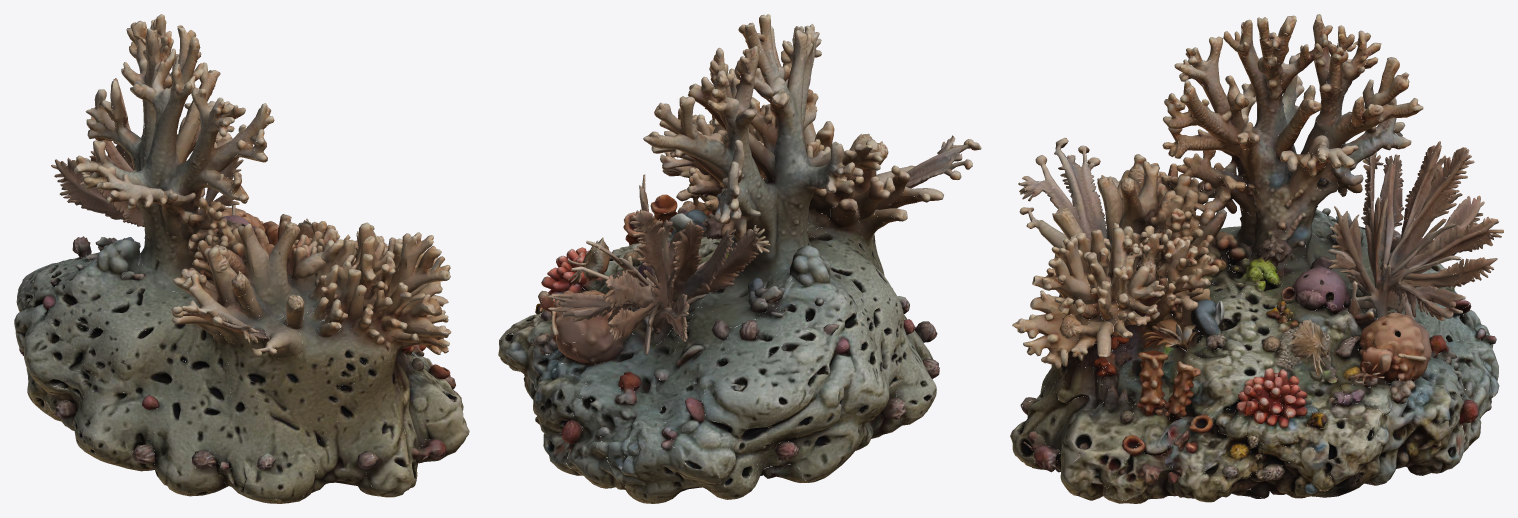
Rendered from CoralCluster.glb.
The picture shows the model from 3 angles, left to right: view 1: azimuth 30°, elevation 25°; view 2: azimuth 150°, elevation 25°; view 3: azimuth 270°, elevation 25°; orthographic projection. The views are drawn at different scales.
Visible parts, largest first — view 1: tripo_node_7975c06a-bf08-4f32-b494-3820de9c8e1f; view 2: tripo_node_7975c06a-bf08-4f32-b494-3820de9c8e1f; view 3: tripo_node_7975c06a-bf08-4f32-b494-3820de9c8e1f.
Part boxes in pixels (x1,y1,x2,y2): tripo_node_7975c06a-bf08-4f32-b494-3820de9c8e1f: [14, 14, 469, 503]; tripo_node_7975c06a-bf08-4f32-b494-3820de9c8e1f: [498, 14, 981, 503]; tripo_node_7975c06a-bf08-4f32-b494-3820de9c8e1f: [1010, 14, 1503, 503].
Bounding box in the file's own units: 0.8328 × 0.9132 × 1.
Materials: 1 (1 with a texture image).
